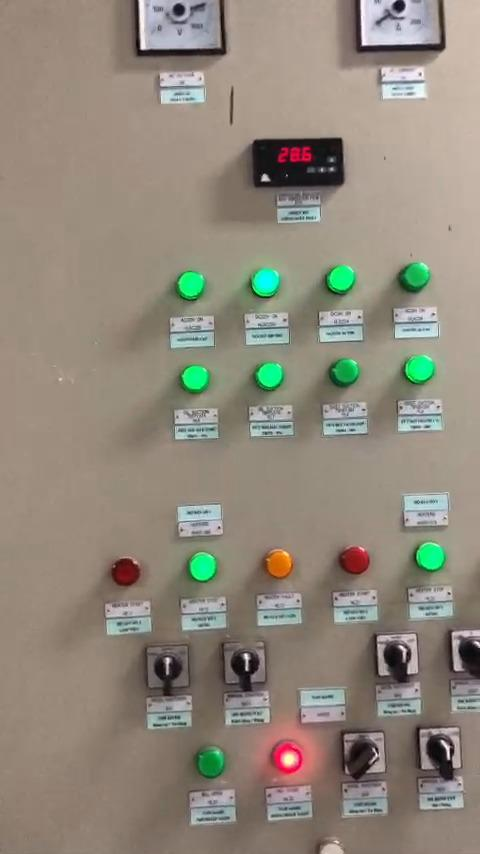led: (398, 260, 436, 296), (195, 746, 234, 781), (327, 357, 364, 392), (400, 354, 434, 390), (270, 742, 306, 776), (340, 545, 373, 580), (323, 265, 359, 295), (248, 268, 281, 300), (174, 270, 206, 302), (253, 360, 285, 392), (189, 552, 220, 585), (110, 559, 143, 589), (265, 549, 296, 580), (180, 365, 211, 394), (417, 541, 444, 571)
twist: (342, 730, 389, 786), (145, 641, 191, 696), (418, 729, 466, 779), (374, 635, 421, 681), (225, 639, 268, 688), (450, 627, 480, 679)
